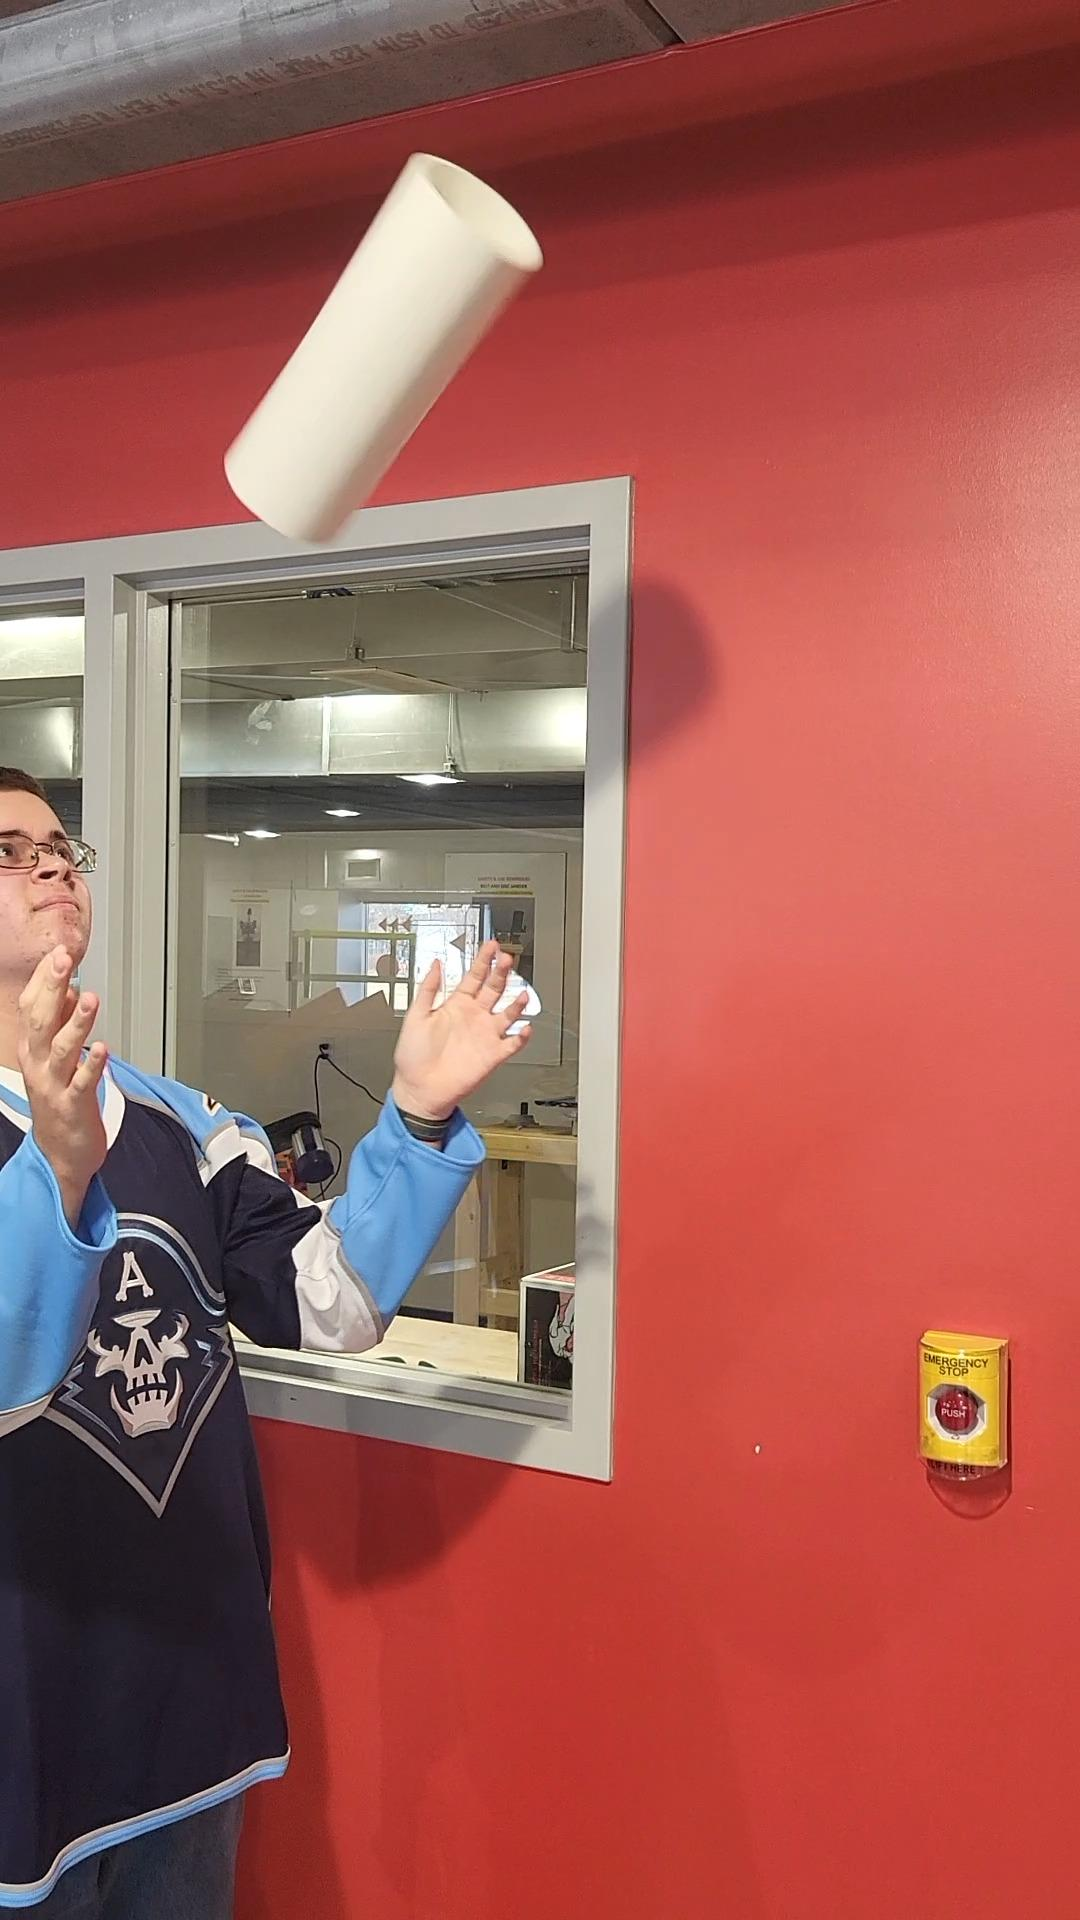coral: (214, 144, 554, 554)
